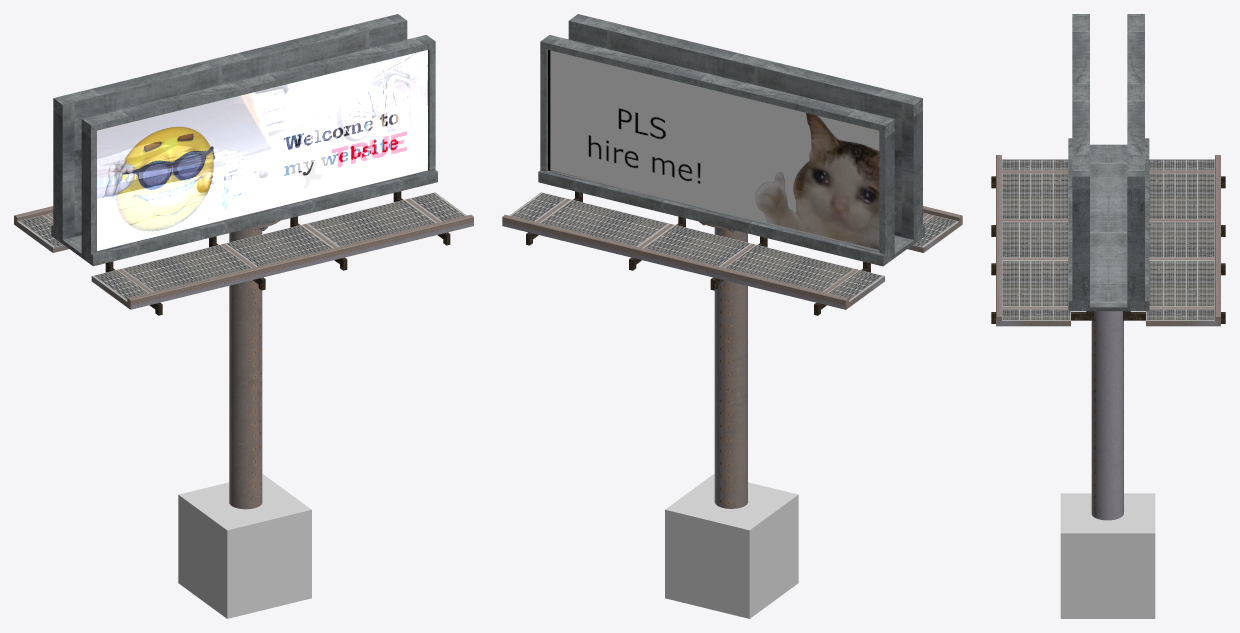
File: bill1.glb
3 views of the same model, side by side, from view 1: azimuth 30°, elevation 25°; view 2: azimuth 150°, elevation 25°; view 3: azimuth 270°, elevation 25° (orthographic). The views are drawn at different scales.
Visible parts, largest first — view 1: billboard_support, Cube; view 2: billboard_support, Cube; view 3: billboard_support, Cube.
Part boxes in pixels (left/top/right/bottom): billboard_support: left=14, top=14, right=473, bottom=509; Cube: left=178, top=474, right=311, bottom=618; billboard_support: left=502, top=14, right=962, bottom=508; Cube: left=665, top=474, right=798, bottom=618; billboard_support: left=991, top=14, right=1225, bottom=520; Cube: left=1060, top=493, right=1155, bottom=618.
Size of the model in its own units: 8.15 by 11.76 by 4.96.
Materials: 7 (6 with a texture image).
